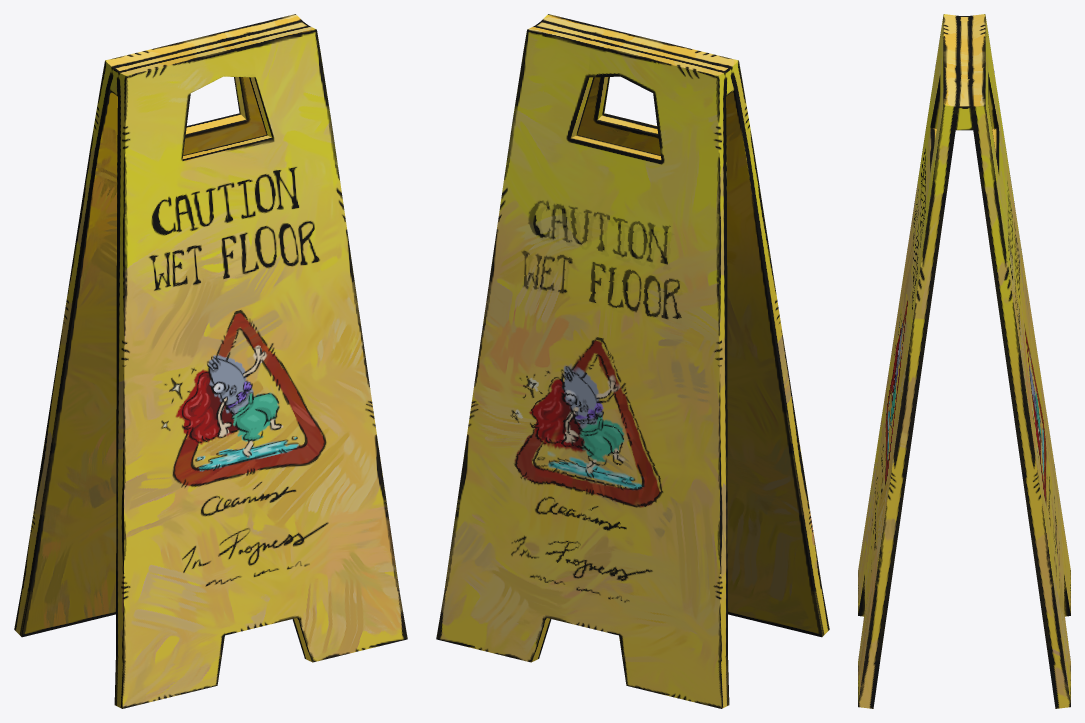
The model's file is Wet_Floor_Sign.fbx.
The picture shows the model from 3 angles, left to right: view 1: azimuth 30°, elevation 25°; view 2: azimuth 150°, elevation 25°; view 3: azimuth 270°, elevation 25°; orthographic projection.
Parts seen in each view (by area): view 1: Wet_Floor_Sign; view 2: Wet_Floor_Sign; view 3: Wet_Floor_Sign.
Boxes of the visible parts, x1,y1,x2,y2 form: Wet_Floor_Sign: (14, 14, 407, 708); Wet_Floor_Sign: (436, 14, 829, 708); Wet_Floor_Sign: (858, 14, 1070, 708).
Size of the model in its own units: 0.6547 by 1.3 by 0.4304.
1 material, 1 textured.
